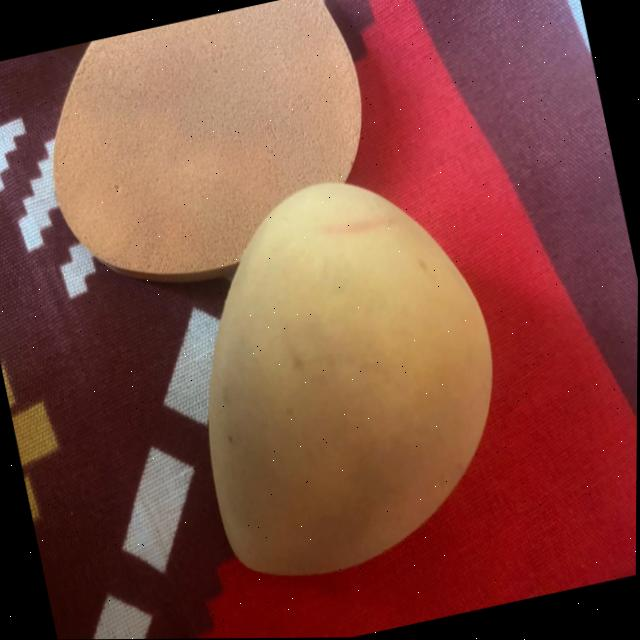beauty blender: (133, 136, 552, 615), (8, 0, 416, 301)
